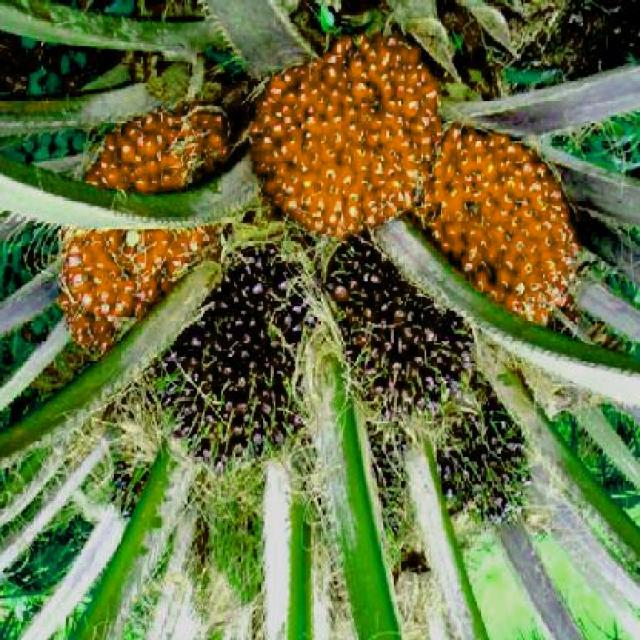palm-oil: (47, 102, 247, 345), (253, 16, 442, 244), (159, 248, 316, 476), (413, 112, 592, 310), (380, 382, 549, 532), (329, 219, 459, 413)
